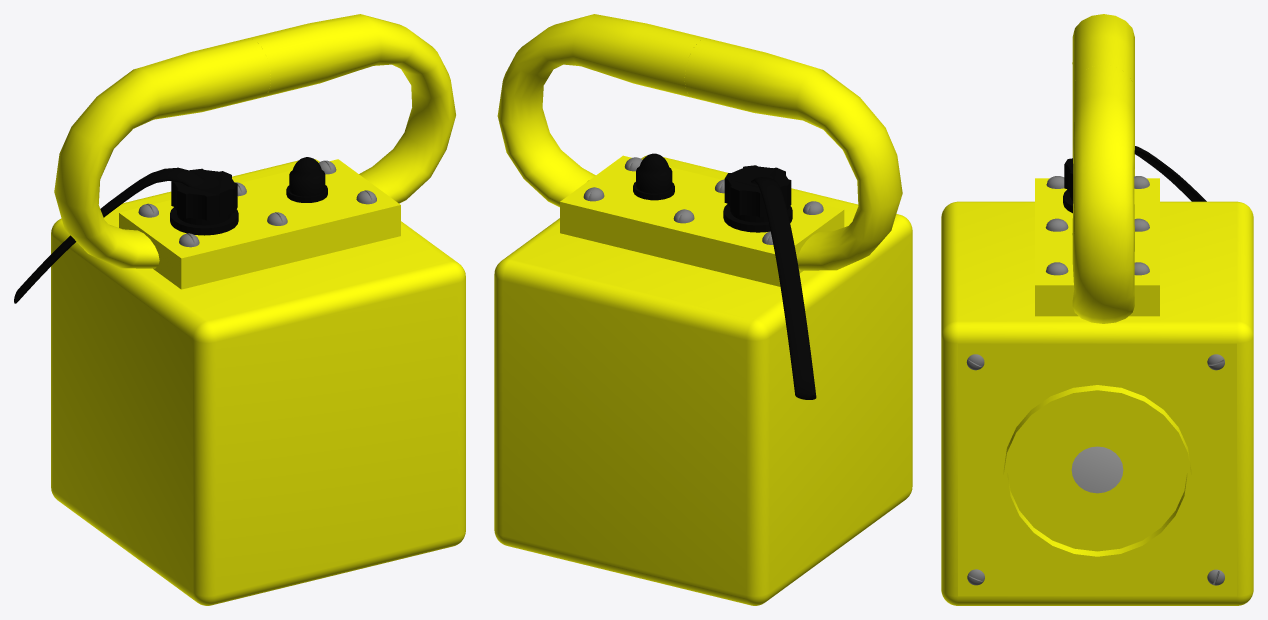
Rendered from BattleLantern.fbx.
3 views of the same model, side by side, from view 1: azimuth 30°, elevation 25°; view 2: azimuth 150°, elevation 25°; view 3: azimuth 270°, elevation 25° (orthographic).
Parts seen in each view (by area): view 1: Mesh Object_ncl1_3, Mesh Object_ncl1_1, Mesh Object_ncl1_2, Mesh Object_ncl1_9, Mesh Object_ncl1_10, Mesh Object_ncl1_7, Mesh Object_ncl1_6, Mesh Object_ncl1_8; view 2: Mesh Object_ncl1_3, Mesh Object_ncl1_1, Mesh Object_ncl1_2, Mesh Object_ncl1_10, Mesh Object_ncl1_9, Mesh Object_ncl1_7, Mesh Object_ncl1_6, Mesh Object_ncl1_8; view 3: Mesh Object_ncl1_3, Mesh Object_ncl1_1, Mesh Object_ncl1_2, Mesh Object_ncl1_4, Mesh Object_ncl1_5, Mesh Object_ncl1_6, Mesh Object, Mesh Object_ncl1_10.
Part boxes in pixels (x1,y1,x2,y2): Mesh Object_ncl1_3: (51,159,465,605); Mesh Object_ncl1_1: (54,14,455,268); Mesh Object_ncl1_2: (119,159,400,289); Mesh Object_ncl1_9: (171,168,237,220); Mesh Object_ncl1_10: (14,167,204,303); Mesh Object_ncl1_7: (286,157,327,202); Mesh Object_ncl1_6: (138,160,376,247); Mesh Object_ncl1_8: (170,207,238,235); Mesh Object_ncl1_3: (494,155,912,605); Mesh Object_ncl1_1: (497,14,902,270); Mesh Object_ncl1_2: (560,155,844,286); Mesh Object_ncl1_10: (751,177,816,399); Mesh Object_ncl1_9: (724,165,791,217); Mesh Object_ncl1_7: (633,153,674,200); Mesh Object_ncl1_6: (583,157,823,244); Mesh Object_ncl1_8: (723,204,792,232); Mesh Object_ncl1_3: (941,201,1253,605); Mesh Object_ncl1_1: (1072,14,1134,323); Mesh Object_ncl1_2: (1035,178,1159,316); Mesh Object_ncl1_4: (1003,385,1191,559); Mesh Object_ncl1_5: (1071,446,1123,493); Mesh Object_ncl1_6: (1045,176,1149,275); Mesh Object: (966,354,1224,585); Mesh Object_ncl1_10: (1134,146,1206,201).
Bounding box in the file's own units: 7.19 × 8.49 × 5.
